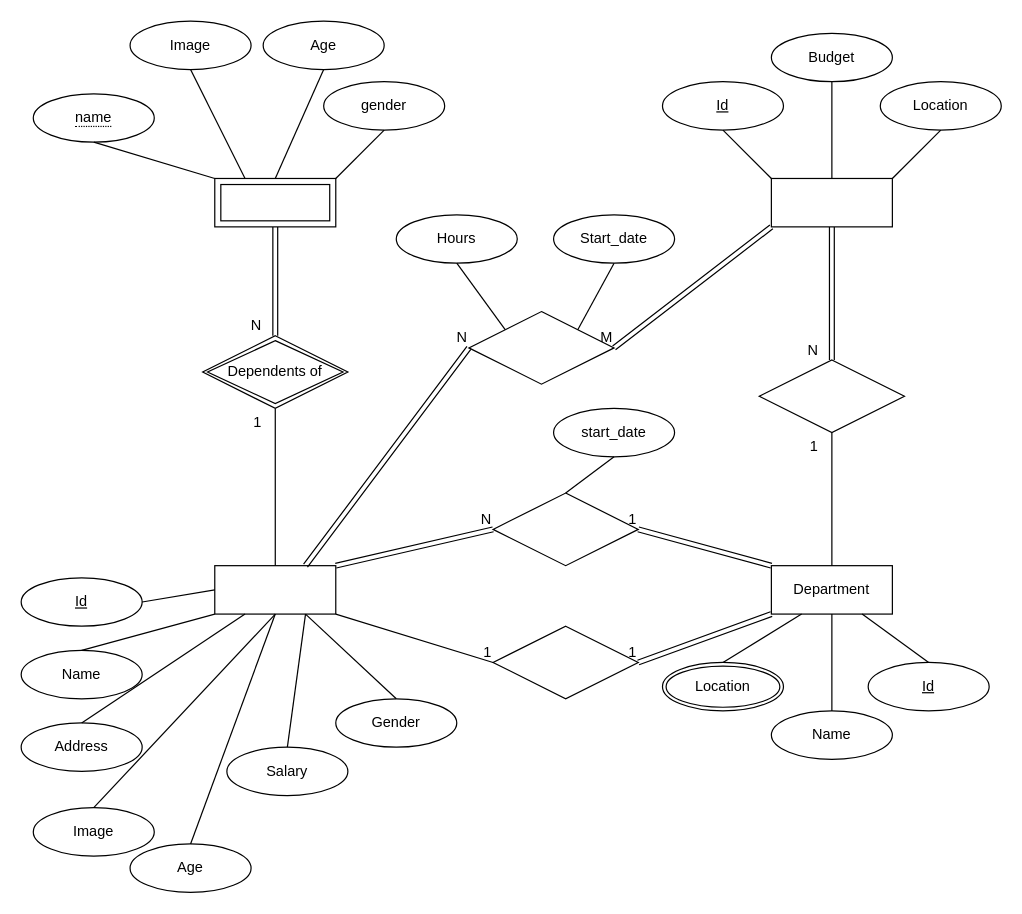
Image size: 1022x914. Some labels were removed from this diagram. Here are the shapes that lost their labels. From the top down, the box of each, then its label:
(214, 177, 336, 227): Dependent
(770, 177, 892, 227): Project
(468, 310, 614, 384): Works At
(758, 359, 904, 433): Contains
(492, 492, 638, 566): Has
(214, 564, 336, 614): Employee
(492, 625, 638, 699): Manages
